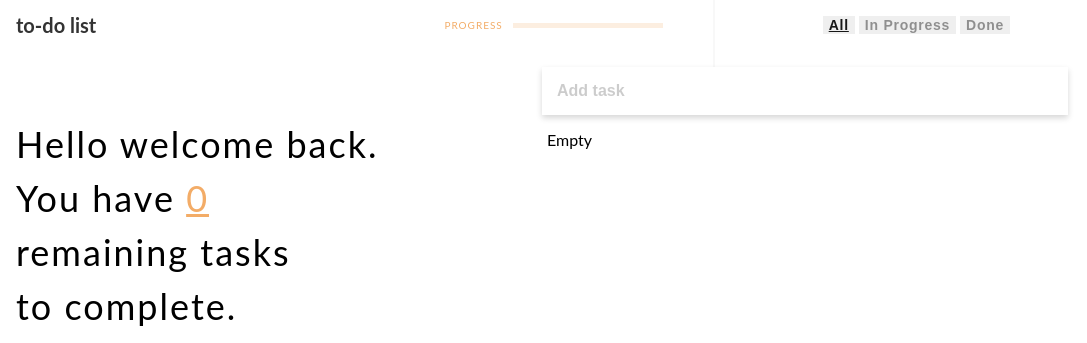
it: todo app › As a user i can remove todo
The image size is (1087, 343).
Type "Have a lunch" into the field with test id "todo-input" at [805, 91], box [542,67,1068,115]
Then press Enter
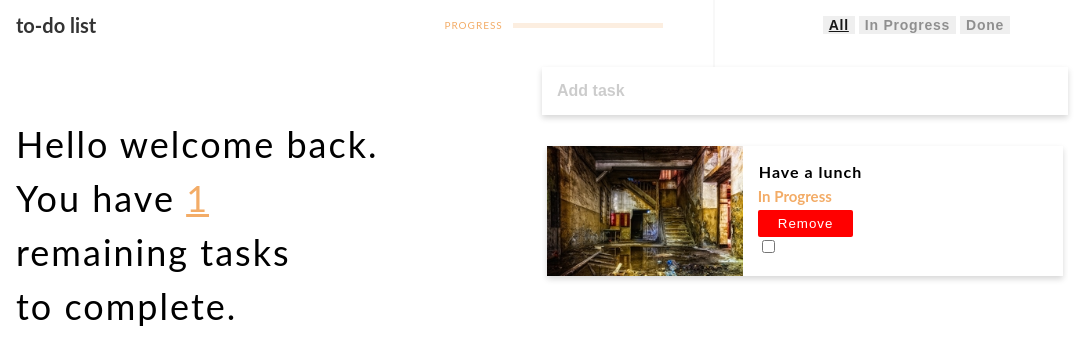
Click the button with test id "remove-btn" at [806, 224], box [758,210,854,237]
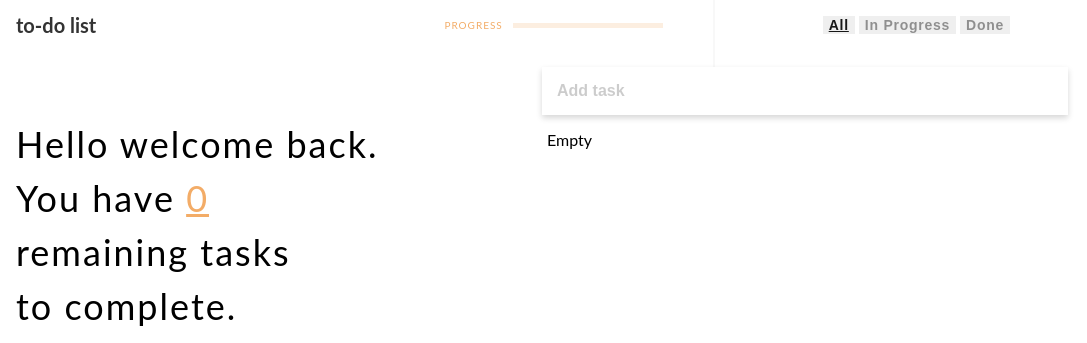
Expected: no list items with test id "todo-item" are shown
